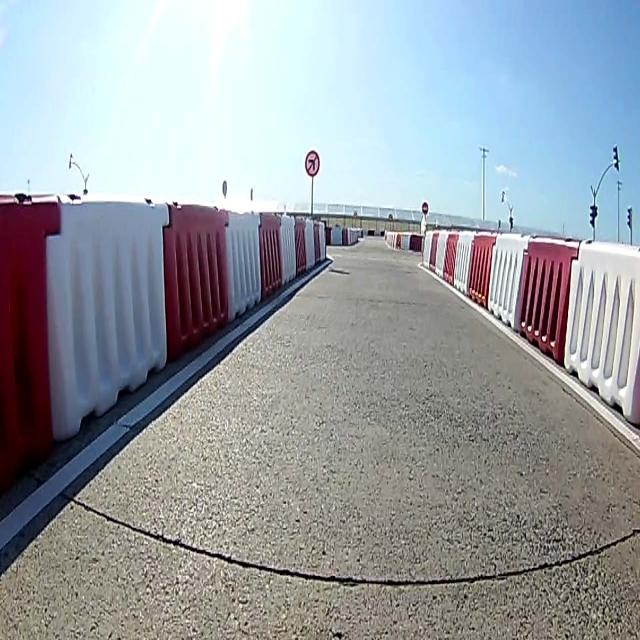girisyok: (421, 200, 429, 212)
soladonulmez: (304, 146, 320, 180)
